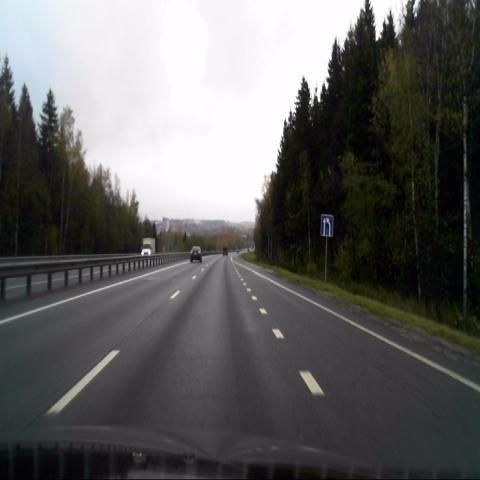5_15_5: (321, 214, 333, 237)
